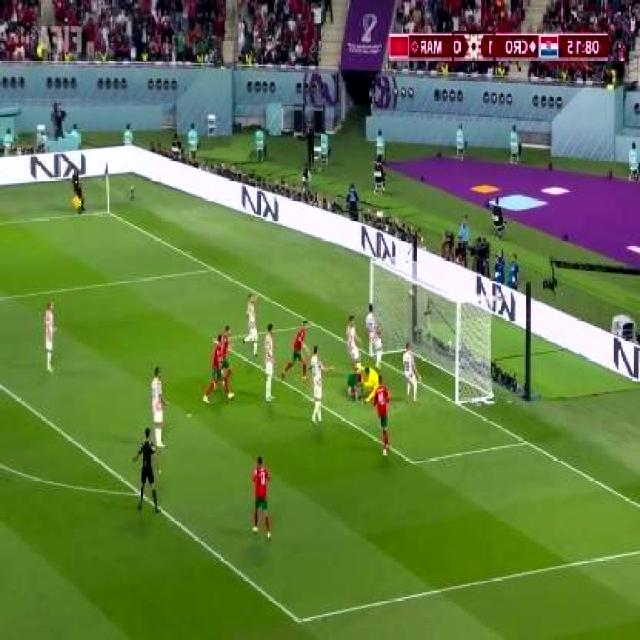bigarea_bottom_inner: (286, 601, 312, 637)
bigarea_top_outter: (203, 257, 222, 278)
corner: (97, 203, 118, 220)
smallarea_bottom_inner: (403, 446, 426, 477)
smallarea_bottom_outter: (517, 428, 538, 455)
smallarea_top_inner: (206, 328, 222, 349)
smallarea_top_outter: (306, 311, 325, 334)
